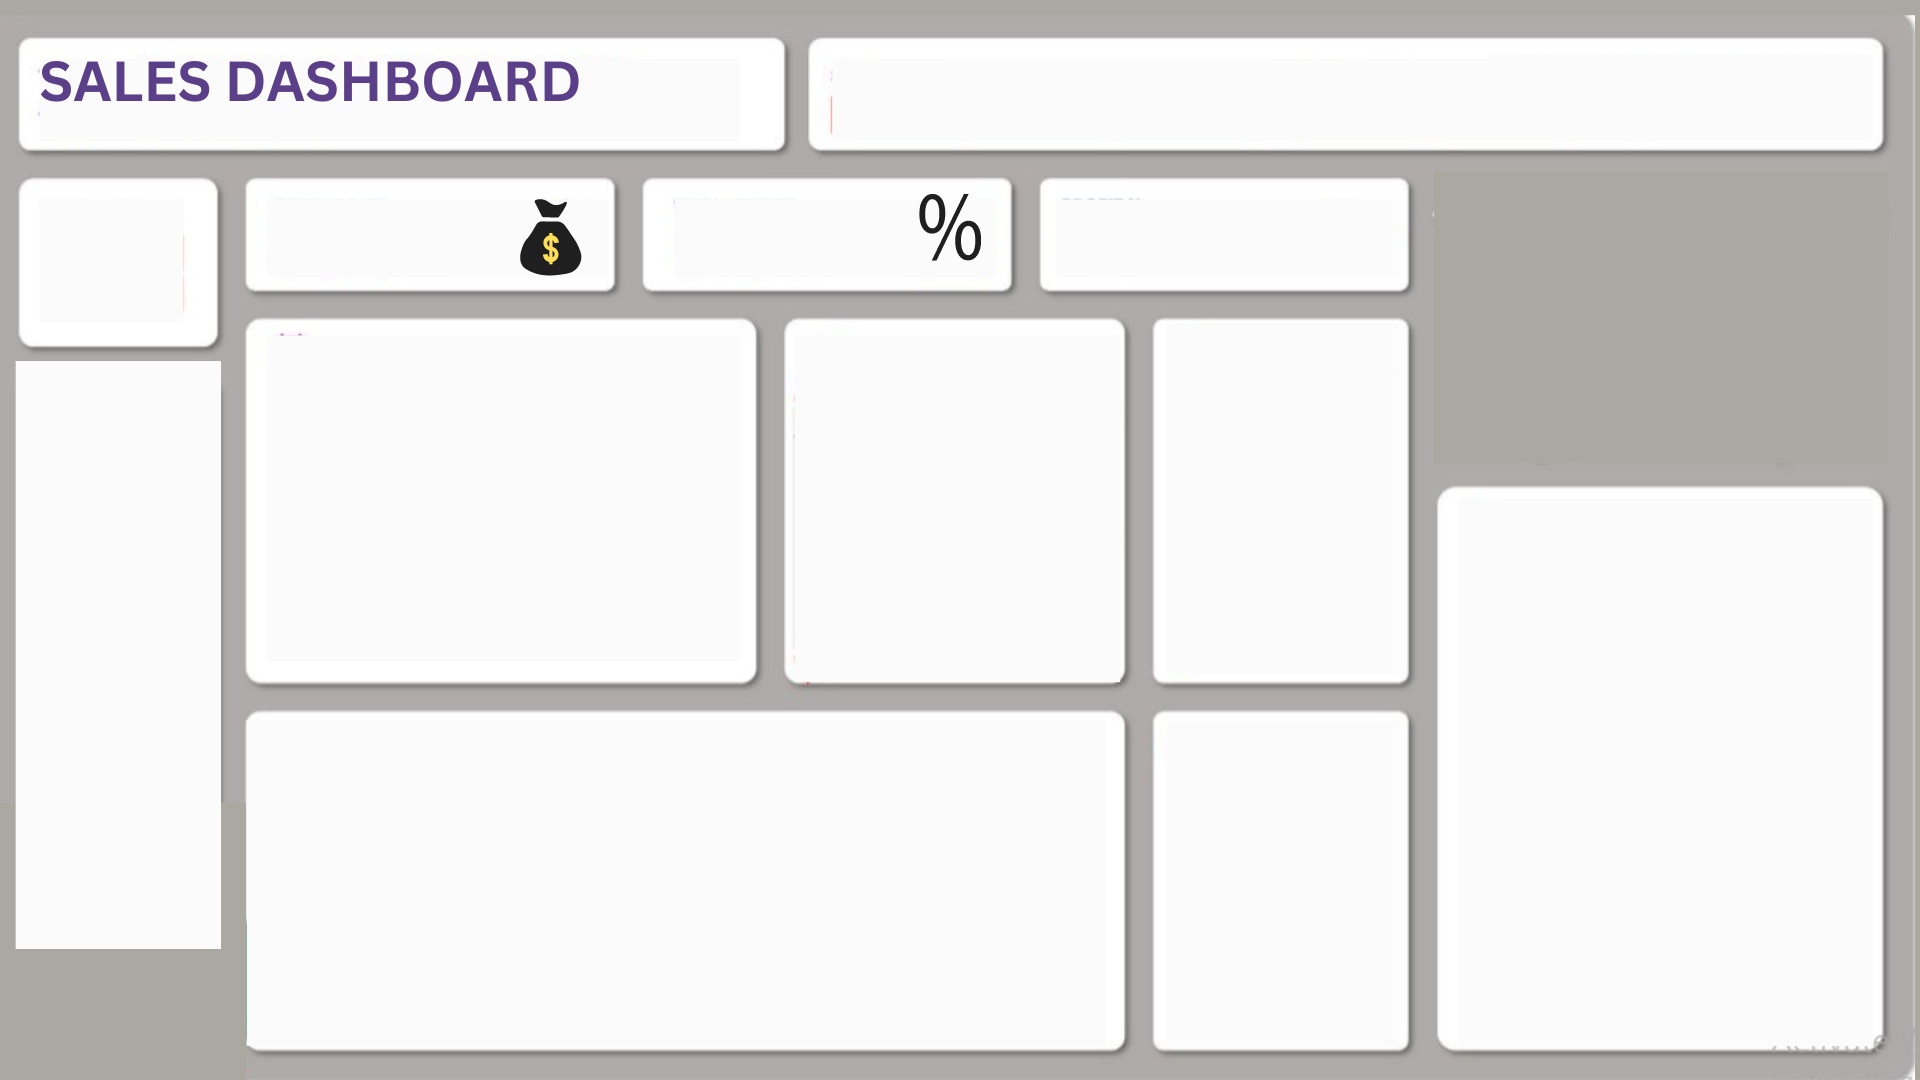

This screenshot's page, from the dashboard's own definition file:
{"tool":"powerbi","page":{"name":"Page 1","canvas":[1280,720],"ordinal":0},"visuals":[{"type":"slicer","fields":{"Values":["InputData.Year"]},"box":[0,134.5,105.1,90.5],"z":0},{"type":"slicer","fields":{"Values":["InputData.PAYMENT MODE"]},"box":[768.9,37.9,216.4,56.2],"z":1000},{"type":"slicer","fields":{"Values":["InputData.SALE TYPE"]},"box":[564.8,36.7,184.6,56.2],"z":2000},{"type":"slicer","fields":{"Values":["InputData.Month Name"]},"box":[0,253,119.8,375.3],"z":3000},{"type":"card","fields":{"Values":["Sum(InputData.Total Selling Value)"]},"box":[193.1,128.4,144.2,67.2],"z":4000},{"type":"card","fields":{"Values":["InputData.Profit"]},"box":[841,128.4,144.2,67.2],"z":5000},{"type":"card","fields":{"Values":["InputData.Profit %"]},"box":[574.5,128.4,113.7,67.2],"z":6000},{"type":"columnChart","fields":{"Category":["InputData.Month Name"],"Y":["Sum(InputData.Total Selling Value)","InputData.Profit"]},"box":[152.8,224.9,352.1,227.4],"z":7000},{"type":"clusteredBarChart","fields":{"Y":["Sum(InputData.Total Selling Value)"],"Category":["InputData.MasterData.PRODUCT"]},"box":[541.5,224.9,227.4,227.4],"z":8000},{"type":"areaChart","fields":{"Y":["Sum(InputData.Total Selling Value)"],"Category":["InputData.Day"]},"box":[152.8,493.9,616.1,199.3],"z":9000},{"type":"treemap","fields":{"Values":["Sum(InputData.Total Selling Value)"],"Group":["InputData.MasterData.CATEGORY"]},"box":[1017,344.7,262.8,361.8],"z":10000},{"type":"donutChart","fields":{"Y":["Sum(InputData.Total Selling Value)"],"Category":["InputData.SALE TYPE"]},"box":[810.5,224.9,163.8,227.4],"z":11000},{"type":"donutChart","fields":{"Y":["Sum(InputData.Total Selling Value)"],"Category":["InputData.PAYMENT MODE"]},"box":[810.5,491.4,163.8,201.7],"z":12000},{"type":"textbox","box":[735.9,140.6,105.1,42.8],"z":13000},{"type":"textbox","box":[434,140.6,140.6,42.8],"z":14000},{"type":"textbox","box":[389.9,36.7,136.9,48.9],"z":15000},{"type":"textbox","box":[1001.2,140.6,278.7,151.6],"z":16000},{"type":"textbox","box":[1140.5,64.8,129.6,28.1],"z":17000}]}

Visuals, with their boxes in screenshot pixels (x1, y1, x2, y2), scaled from the page's 1280x720 canvas onto the 1920x1080 screenshot:
slicer - InputData.Year: <bbox>0, 202, 158, 338</bbox>
slicer - InputData.PAYMENT MODE: <bbox>1153, 57, 1478, 141</bbox>
slicer - InputData.SALE TYPE: <bbox>847, 55, 1124, 139</bbox>
slicer - InputData.Month Name: <bbox>0, 380, 180, 942</bbox>
card - Sum(InputData.Total Selling Value): <bbox>290, 193, 506, 293</bbox>
card - InputData.Profit: <bbox>1262, 193, 1478, 293</bbox>
card - InputData.Profit %: <bbox>862, 193, 1032, 293</bbox>
columnChart - InputData.Month Name x Sum(InputData.Total Selling Value): <bbox>229, 337, 757, 678</bbox>
clusteredBarChart - Sum(InputData.Total Selling Value) x InputData.MasterData.PRODUCT: <bbox>812, 337, 1153, 678</bbox>
areaChart - Sum(InputData.Total Selling Value) x InputData.Day: <bbox>229, 741, 1153, 1040</bbox>
treemap - Sum(InputData.Total Selling Value) x InputData.MasterData.CATEGORY: <bbox>1526, 517, 1919, 1060</bbox>
donutChart - Sum(InputData.Total Selling Value) x InputData.SALE TYPE: <bbox>1216, 337, 1461, 678</bbox>
donutChart - Sum(InputData.Total Selling Value) x InputData.PAYMENT MODE: <bbox>1216, 737, 1461, 1040</bbox>
textbox: <bbox>1104, 211, 1262, 275</bbox>
textbox: <bbox>651, 211, 862, 275</bbox>
textbox: <bbox>585, 55, 790, 128</bbox>
textbox: <bbox>1502, 211, 1919, 438</bbox>
textbox: <bbox>1711, 97, 1905, 139</bbox>
